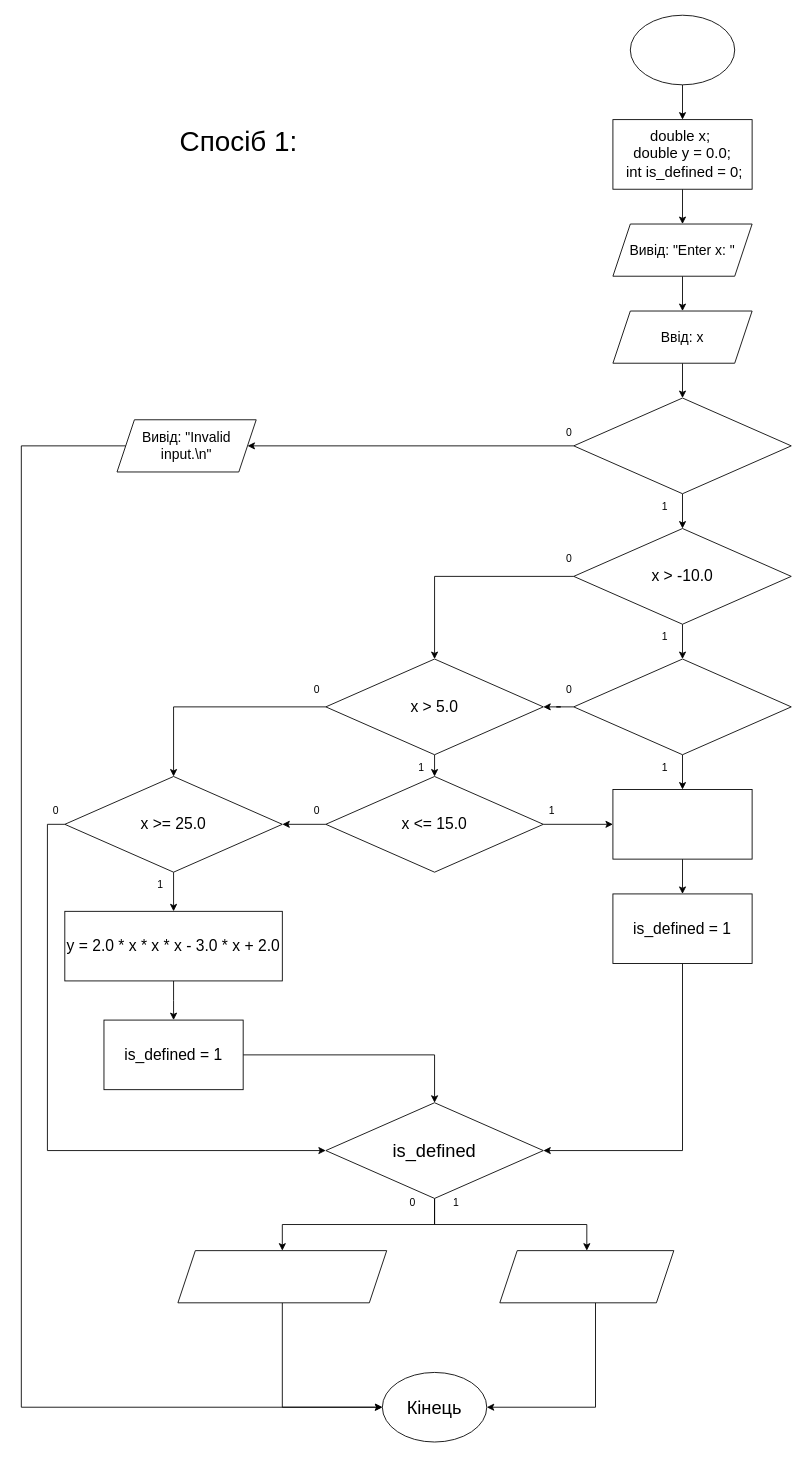
Some shapes in this 806 by 1457 pixel diagram are drawn without their labels. Each missing label, with the centre of its shape:
scanf("%lf", &x) == 1: the point at 682,445
x <= -5.0: the point at 682,706
y = x * x * x - 6.0: the point at 682,824
Вивід: "Function is not defined for this x.\n": the point at 282,1276
Вивід: "y = %.6f\n", y: the point at 586,1276
Початок: the point at 682,49
